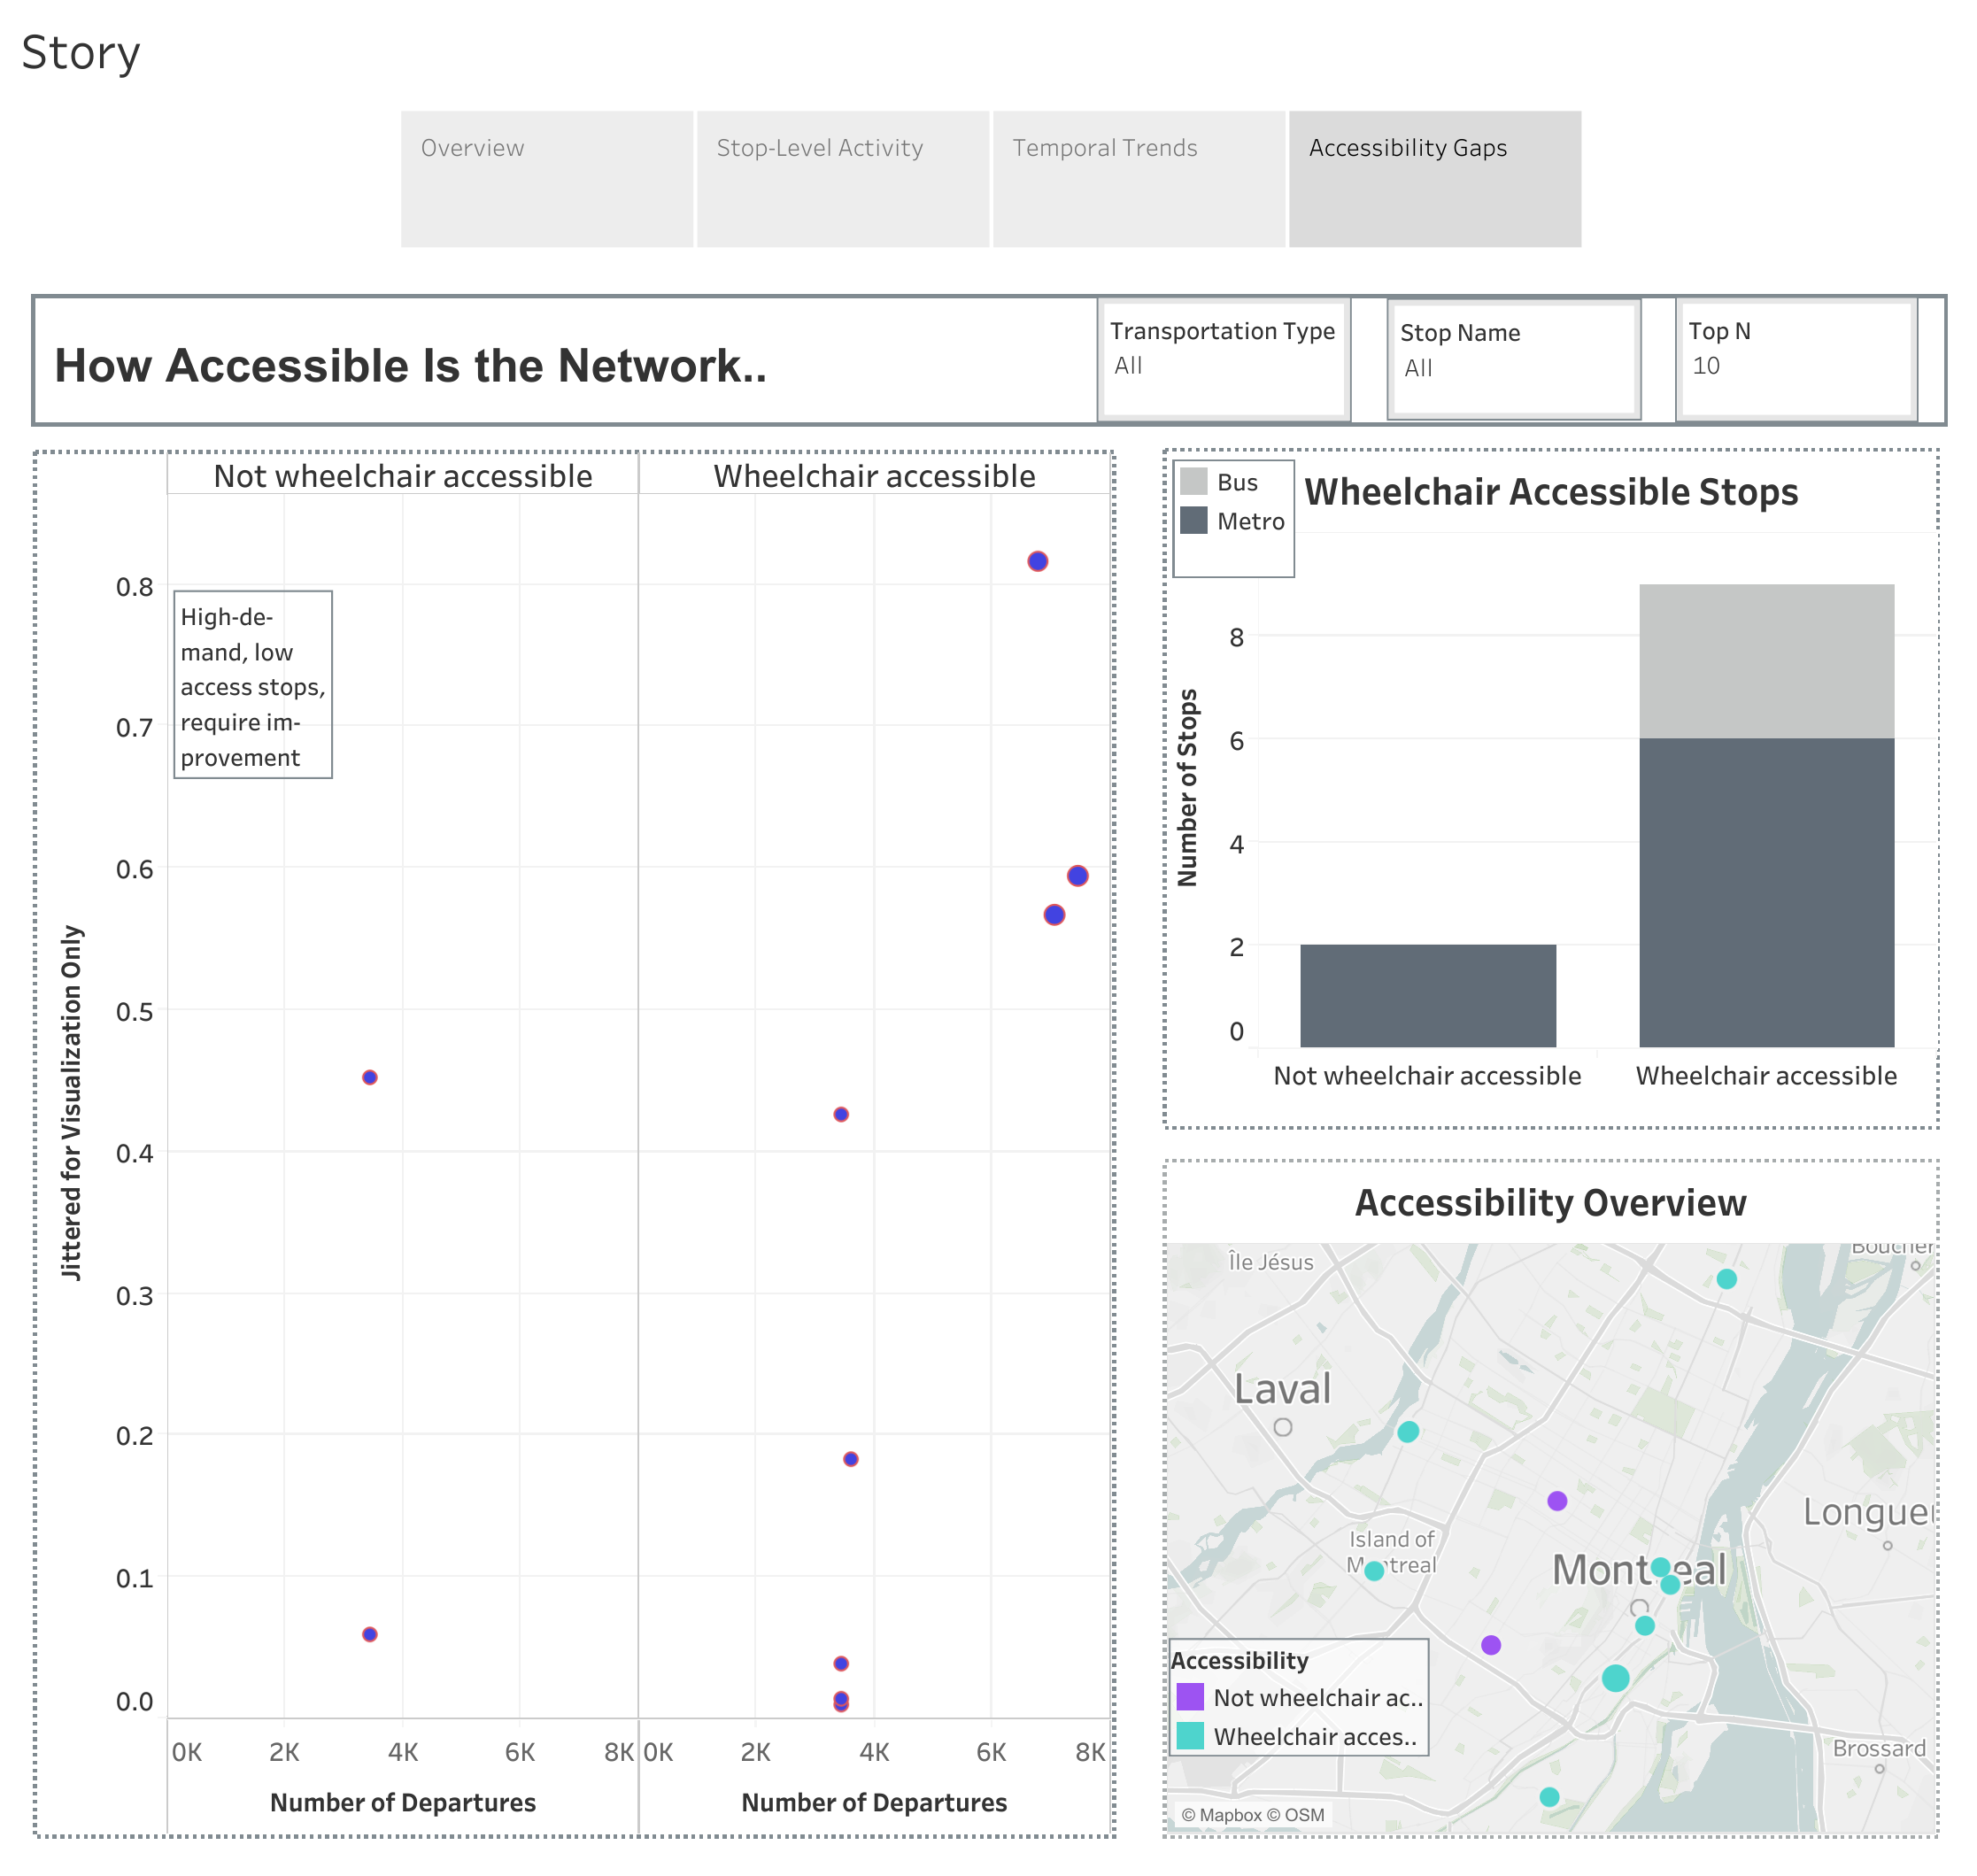

The dashboard page shown, as its layout file describes it:
{"tool":"tableau","page":{"name":"Accessibility Gaps","canvas":[1000,1000],"units":"permille","ordinal":0},"visuals":[{"type":"filter","title":"Accessibility vs. Activity ","param":"[federated.0f4jjsb0i0oyep11vr2by00n93gf].[none:Calculation_6791780142825332740:n","box":[555.3,11.2,130.8,79.3]},{"type":"parameter","param":"[Parameters].[Parameter 1]","box":[852,11.2,124.6,79.3]},{"type":"filter","title":"Accessibility vs. Activity ","param":"[federated.0f4jjsb0i0oyep11vr2by00n93gf].[none:stop_name:nk]","box":[704.1,12.4,130.8,76.8]},{"type":"text","box":[17.1,27.3,383.2,55.8]},{"type":"worksheet","title":"Accessibility vs. Activity ","mark":"Circle","rows":["Calculation_447967486554361866"],"cols":["Calculation_6791780142673121283","Calculation_6791780142639681538"],"box":[6.3,91.7,579.5,898.4]},{"type":"worksheet","title":"Accessibility Distribution ","mark":"Bar","rows":["stop_name"],"cols":["Calculation_6791780142673121283"],"box":[585.7,91.7,408,449.2]},{"type":"legend","title":"Accessibility Distribution ","param":"[federated.0f4jjsb0i0oyep11vr2by00n93gf].[none:Calculation_6791780142825332740:n","box":[593.5,114,63.9,53.3]},{"type":"text","box":[60.5,185.9,84.1,125.2]},{"type":"worksheet","title":"Accessibility Overview","mark":"Circle","rows":["stop_lat"],"cols":["stop_lon"],"box":[585.7,540.9,408,449.2]},{"type":"legend","title":"Accessibility Overview","param":"[federated.0f4jjsb0i0oyep11vr2by00n93gf].[none:Calculation_6791780142673121283:n","box":[592.9,908.3,134.4,71.9]}]}

Visuals, with their boxes on the dashboard's canvas, which has no fixed pixel size, in thousandths of its width and height (x1, y1, x2, y2). These are canvas units, not pixel positions in the 1977x1876 screenshot, which may show the page scaled, cropped or inside an application window:
"Accessibility vs. Activity " filter: select_region(555, 11, 686, 90)
parameter: select_region(852, 11, 977, 90)
"Accessibility vs. Activity " filter: select_region(704, 12, 835, 89)
text: select_region(17, 27, 400, 83)
"Accessibility vs. Activity " worksheet (Circle marks): select_region(6, 92, 586, 990)
"Accessibility Distribution " worksheet (Bar marks): select_region(586, 92, 994, 541)
"Accessibility Distribution " legend: select_region(594, 114, 657, 167)
text: select_region(60, 186, 145, 311)
"Accessibility Overview" worksheet (Circle marks): select_region(586, 541, 994, 990)
"Accessibility Overview" legend: select_region(593, 908, 727, 980)
